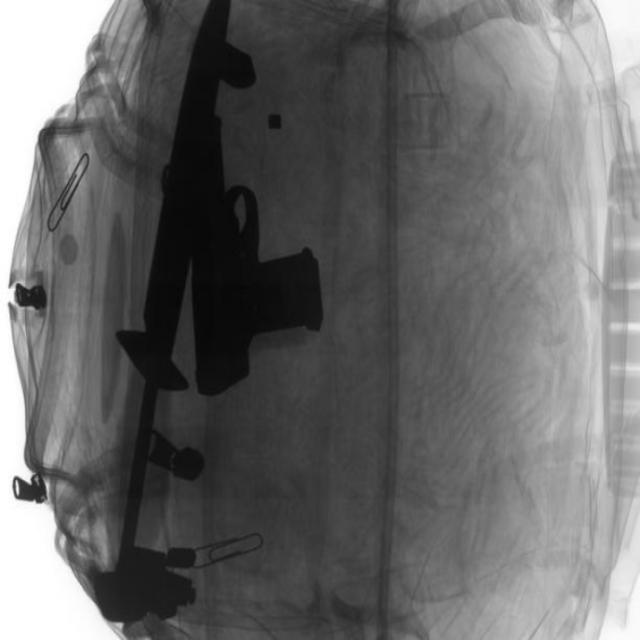GUN: (188, 138, 326, 397)
